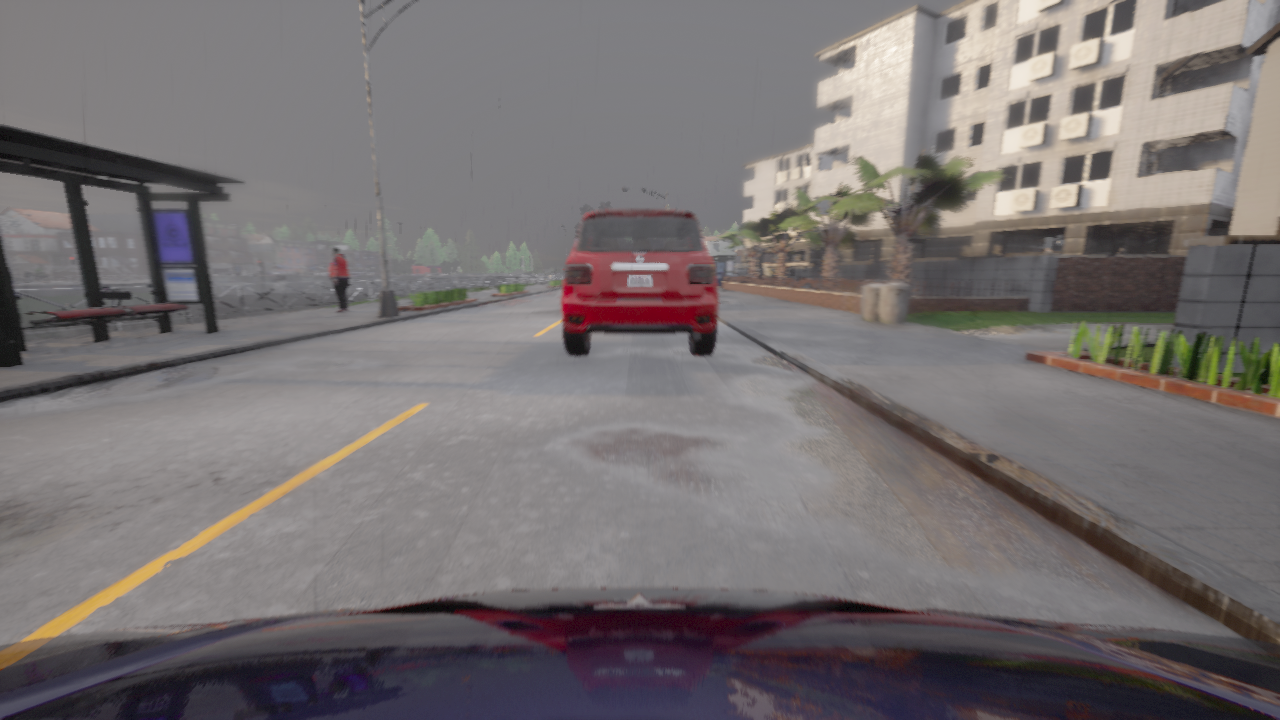cyclist: (0, 588, 1279, 719), (561, 209, 718, 355)
